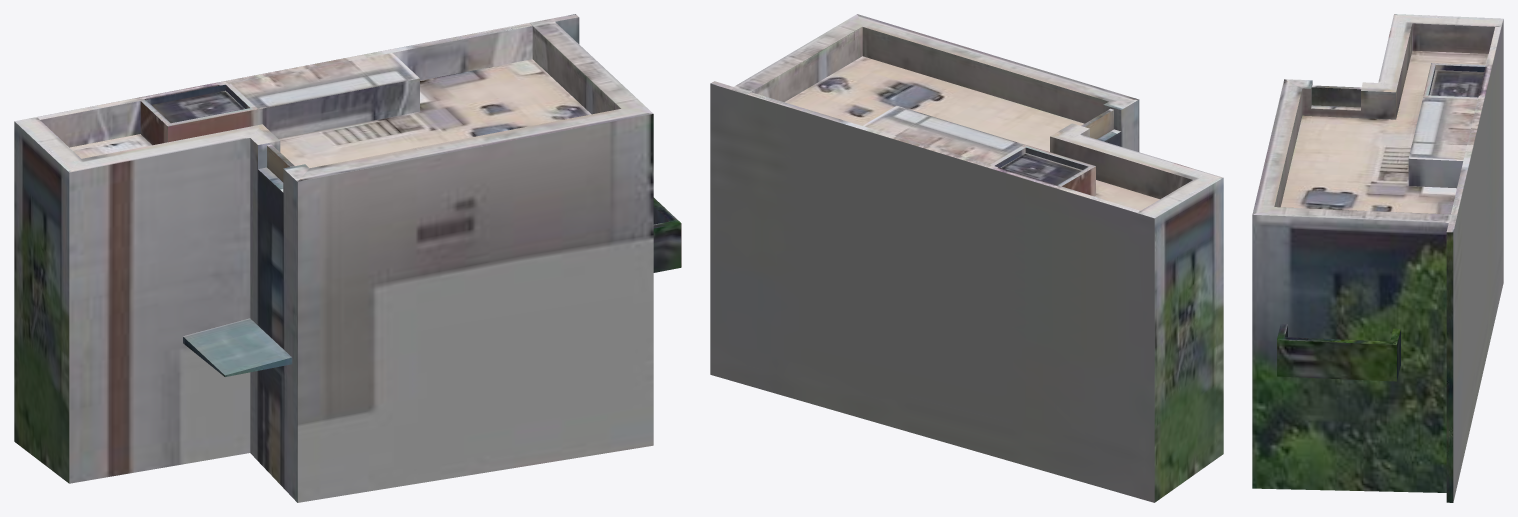
3 renders of one model, left to right at view 1: azimuth 30°, elevation 25°; view 2: azimuth 150°, elevation 25°; view 3: azimuth 270°, elevation 25°, orthographic. The views are drawn at different scales.
Visible parts, largest first — view 1: B286034035201062A0; view 2: B286034035201062A0; view 3: B286034035201062A0.
Part boxes in pixels (bbox=[...]): B286034035201062A0: bbox=[14, 14, 681, 502]; B286034035201062A0: bbox=[710, 14, 1223, 502]; B286034035201062A0: bbox=[1252, 14, 1503, 502].
Bounding box in the file's own units: 16.18 × 9.27 × 7.7.
Materials: 1 (1 with a texture image).
